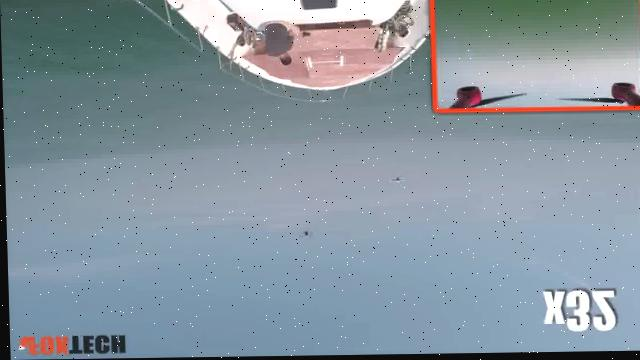drone: (289, 226, 316, 247), (386, 175, 406, 188)
